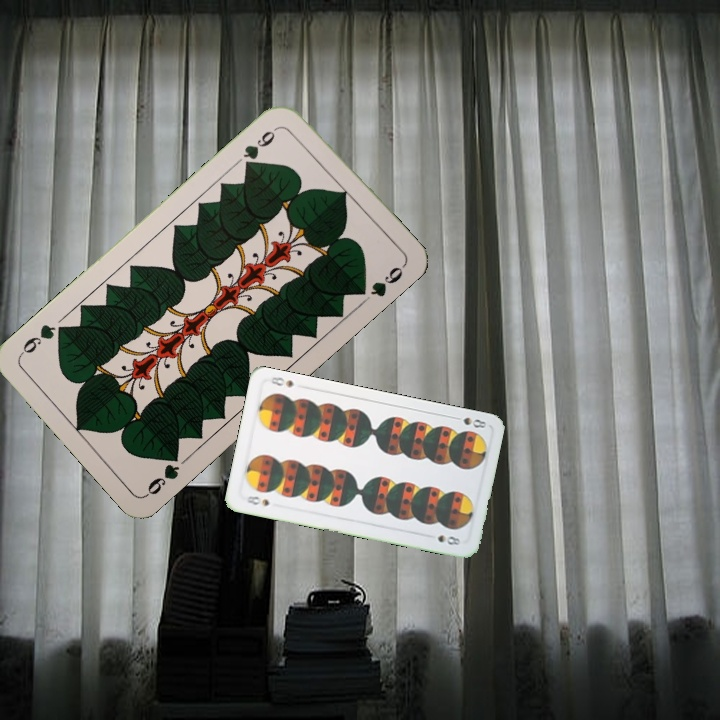G9: (238, 122, 283, 172), (142, 446, 183, 499)
S8: (449, 412, 489, 431), (242, 491, 272, 509)
